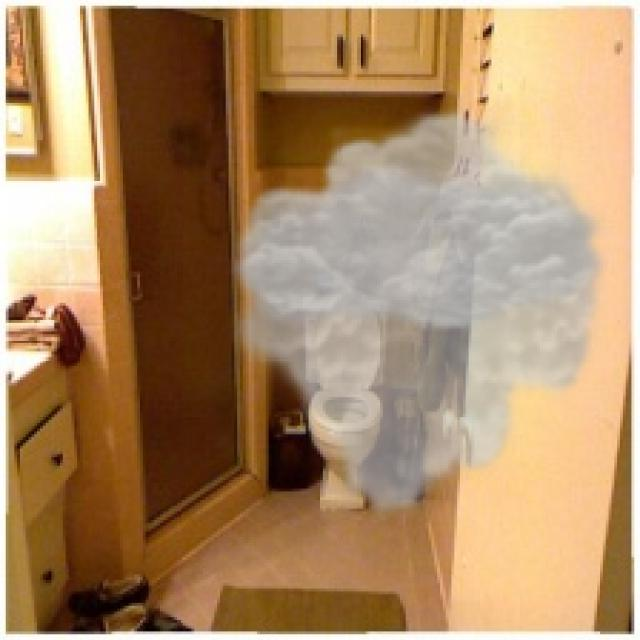smoke: (223, 106, 614, 523)
